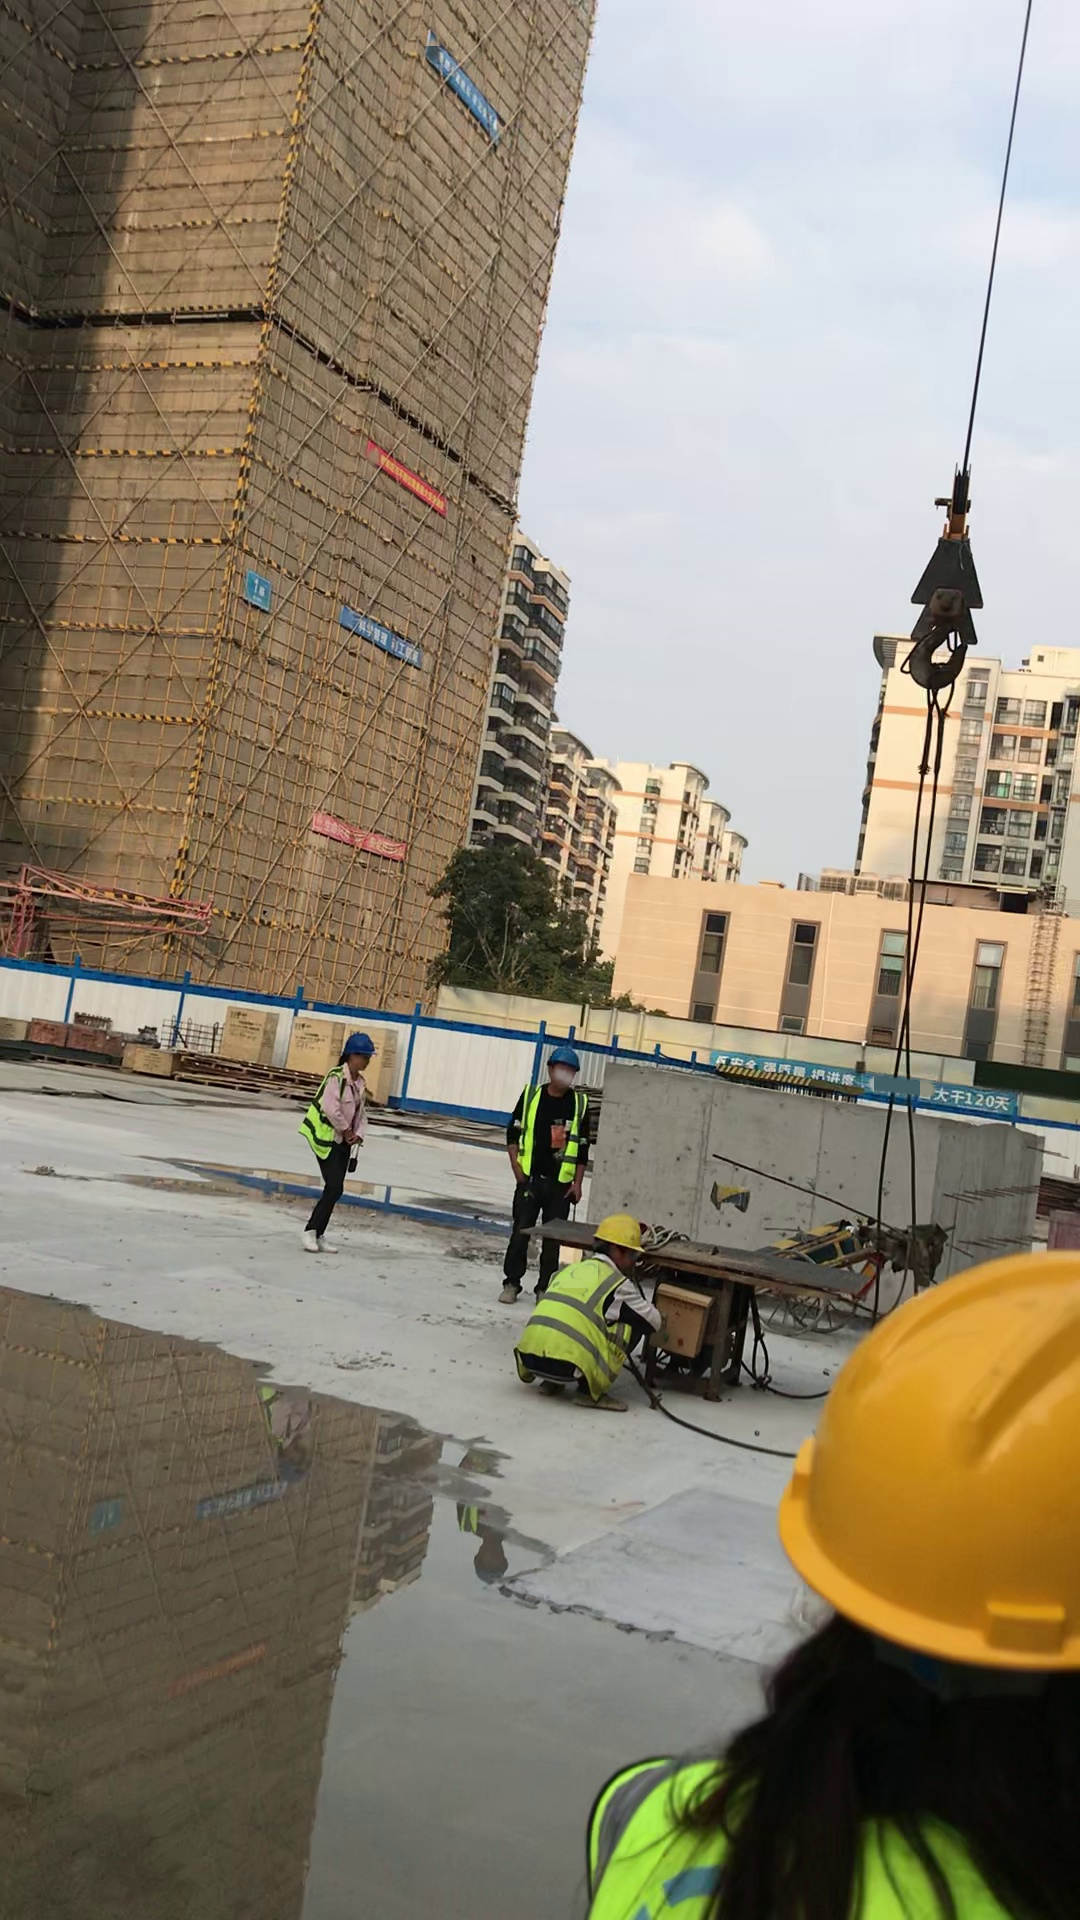helmet: (784, 1236, 1077, 1681), (589, 1218, 648, 1254), (544, 1043, 586, 1070), (345, 1032, 378, 1056)
person: (572, 1236, 1080, 1917), (508, 1219, 672, 1407), (508, 1044, 592, 1298), (299, 1026, 377, 1263)
vest: (570, 1740, 1080, 1920), (525, 1257, 647, 1380), (520, 1079, 583, 1186), (301, 1059, 364, 1157)
